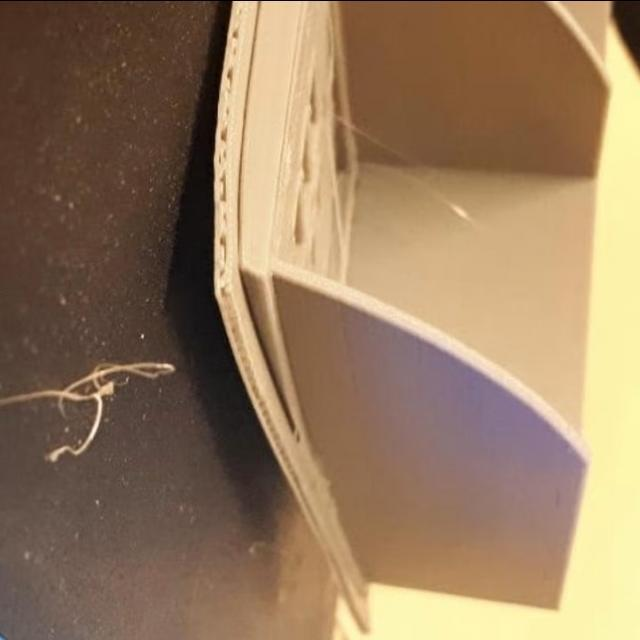Warping: (189, 110, 231, 318)
